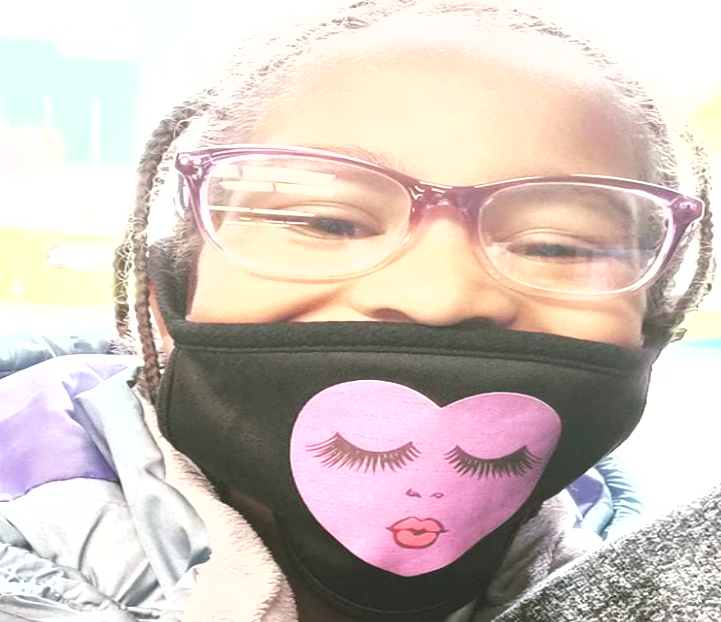mask_weared_incorrect: (117, 2, 713, 620)
